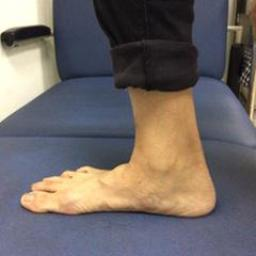Medial View -Right Foot-: (14, 113, 219, 227)
